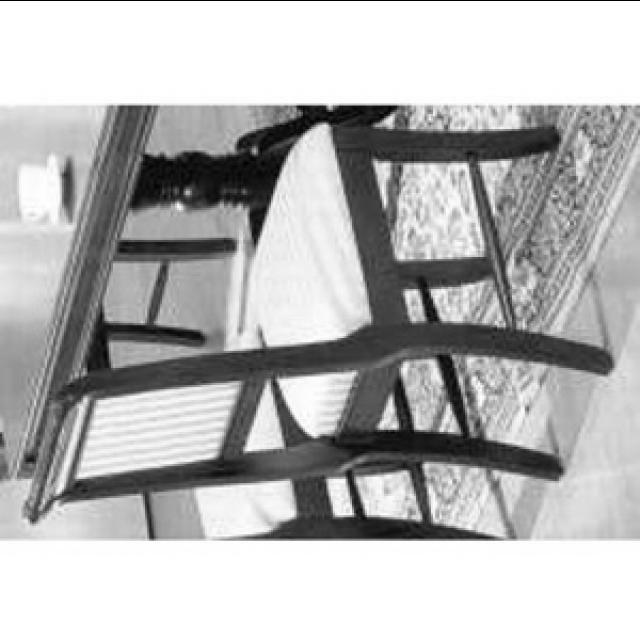chair: (21, 118, 612, 520), (28, 331, 510, 539)
